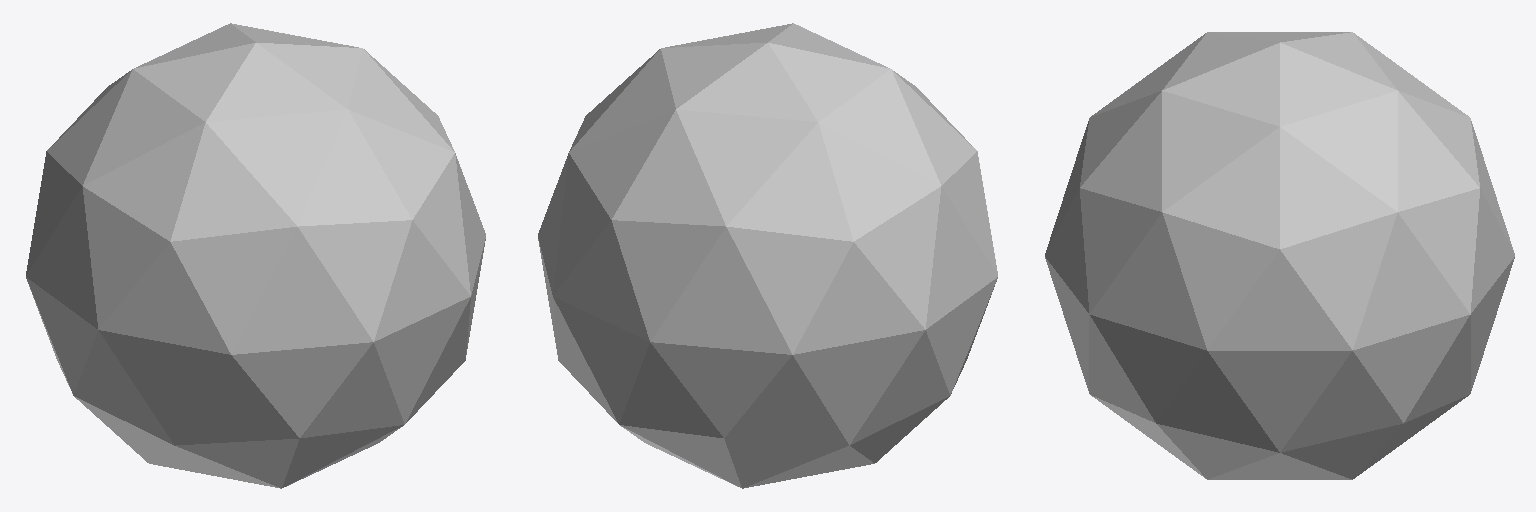
The model's file is DiscoBallPlaceholder.obj.
3 renders of one model, left to right at view 1: azimuth 30°, elevation 25°; view 2: azimuth 150°, elevation 25°; view 3: azimuth 270°, elevation 25°, orthographic.
Visible parts, largest first — view 1: Icosphere; view 2: Icosphere; view 3: Icosphere.
Boxes of the visible parts, <box> form: Icosphere: <box>26,23,485,488</box>; Icosphere: <box>538,23,997,488</box>; Icosphere: <box>1045,32,1514,479</box>.
Size of the model in its own units: 0.3323 by 0.3494 by 0.3494.